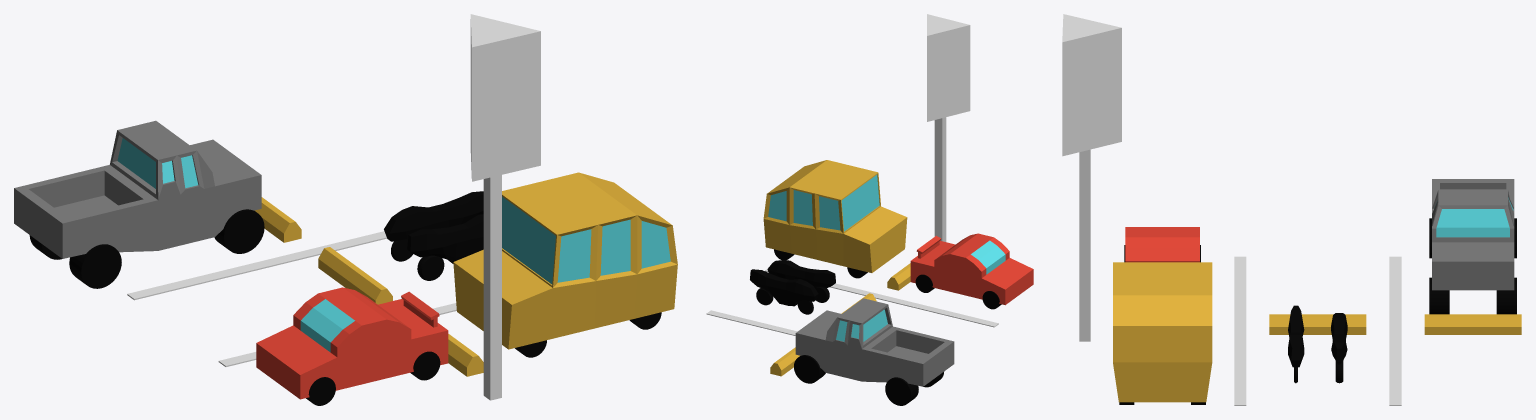
File: carparkV1.fbx
The picture shows the model from 3 angles, left to right: view 1: azimuth 30°, elevation 25°; view 2: azimuth 150°, elevation 25°; view 3: azimuth 270°, elevation 25°; orthographic projection. The views are drawn at different scales.
Visible parts, largest first — view 1: Cylinder, Cube.009; view 2: Cylinder, Cube.009; view 3: Cylinder, Cube.009.
Boxes of the visible parts, <box> form: Cylinder: <box>14,120,677,405</box>; Cube.009: <box>470,14,540,181</box>; Cylinder: <box>706,117,1033,405</box>; Cube.009: <box>927,14,970,121</box>; Cylinder: <box>1079,149,1521,405</box>; Cube.009: <box>1062,14,1121,156</box>.
Size of the model in its own units: 539 by 443 by 592.
